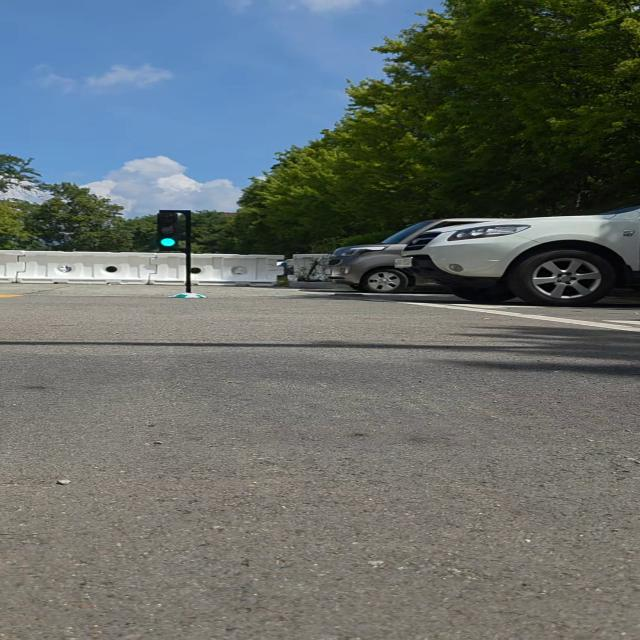green: (151, 210, 190, 253)
